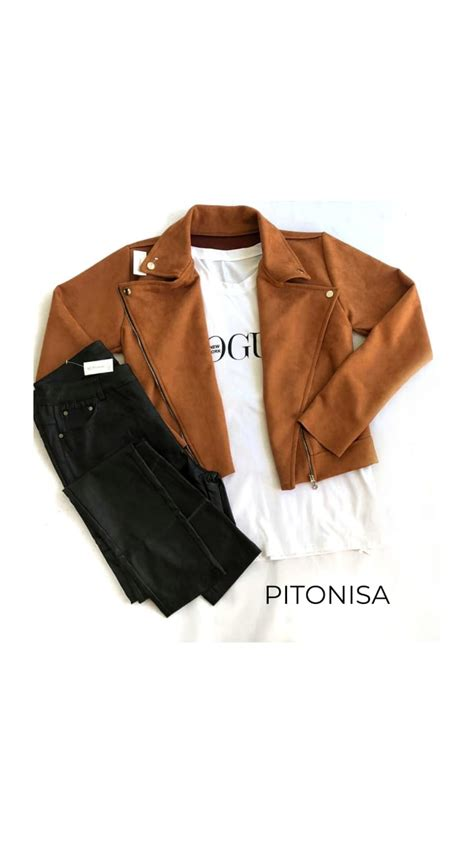gamuza: (41, 204, 434, 489)
